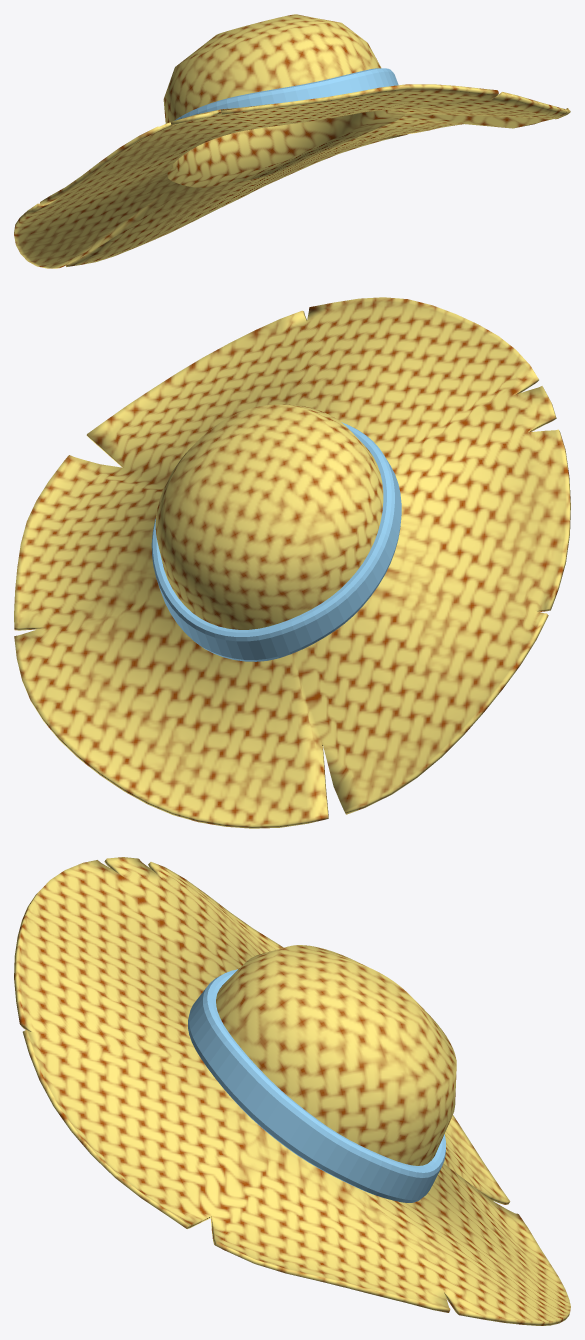
The model's file is SM_strawhat.fbx.
The picture shows the model from 3 angles, top to bottom: view 1: azimuth 30°, elevation 25°; view 2: azimuth 150°, elevation 25°; view 3: azimuth 270°, elevation 25°; orthographic projection. The views are drawn at different scales.
Parts seen in each view (by area): view 1: SM_strawhat; view 2: SM_strawhat; view 3: SM_strawhat.
Part boxes in pixels (x1,y1,x2,y2): SM_strawhat: [14, 14, 570, 268]; SM_strawhat: [14, 297, 570, 828]; SM_strawhat: [14, 857, 570, 1325].
Bounding box in the file's own units: 104 × 64.62 × 85.89.
